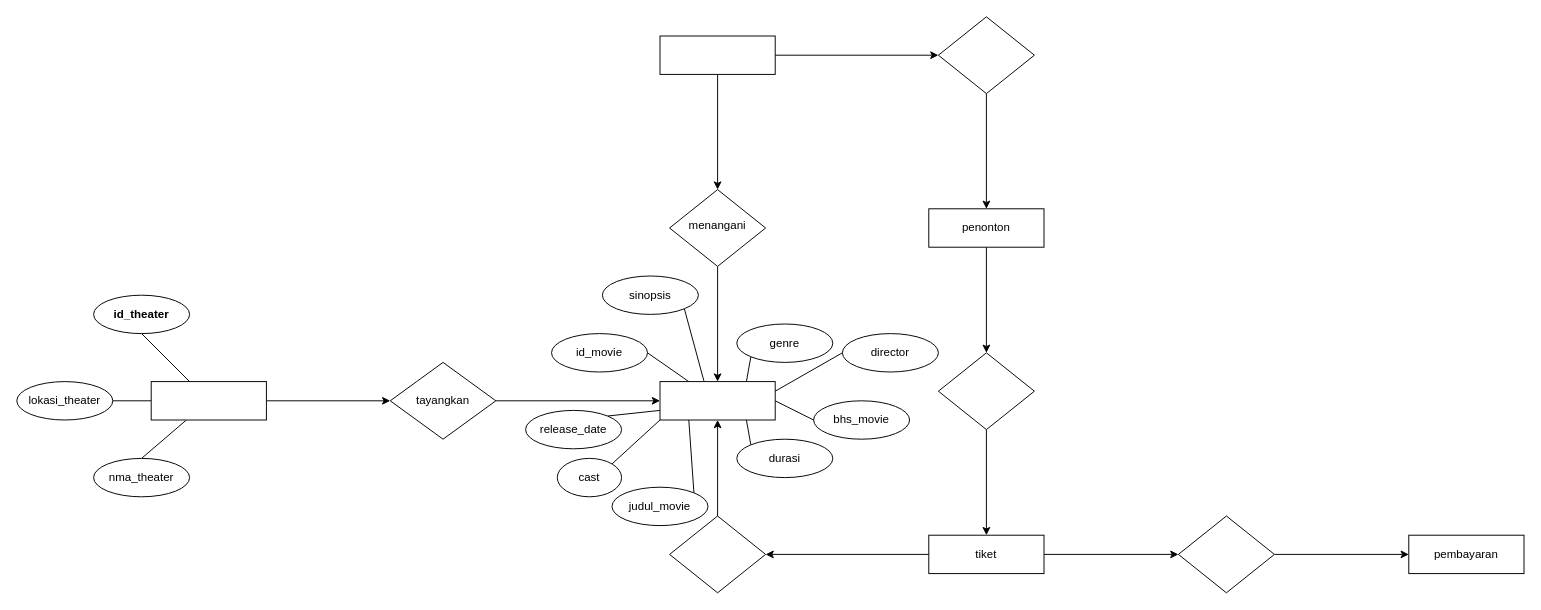
This 1541x610 diagram has some shape labels left out. The centre of each missing label's shape, as x and y in pixels:
"admin" goes at point 717,54.
"melayani" goes at point 985,55.
"memerlukan" goes at point 1225,554.
"memesan" goes at point 985,391.
"menonton" goes at point 717,554.
"movie" goes at point 717,400.
"theater" goes at point 208,400.
